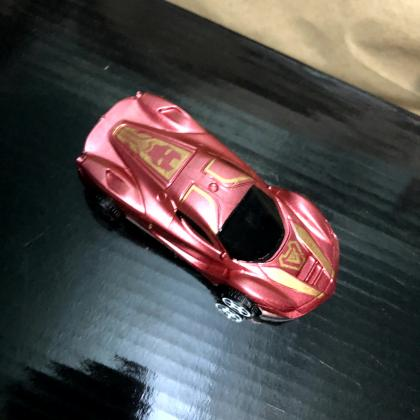Car: (75, 92, 340, 323)
